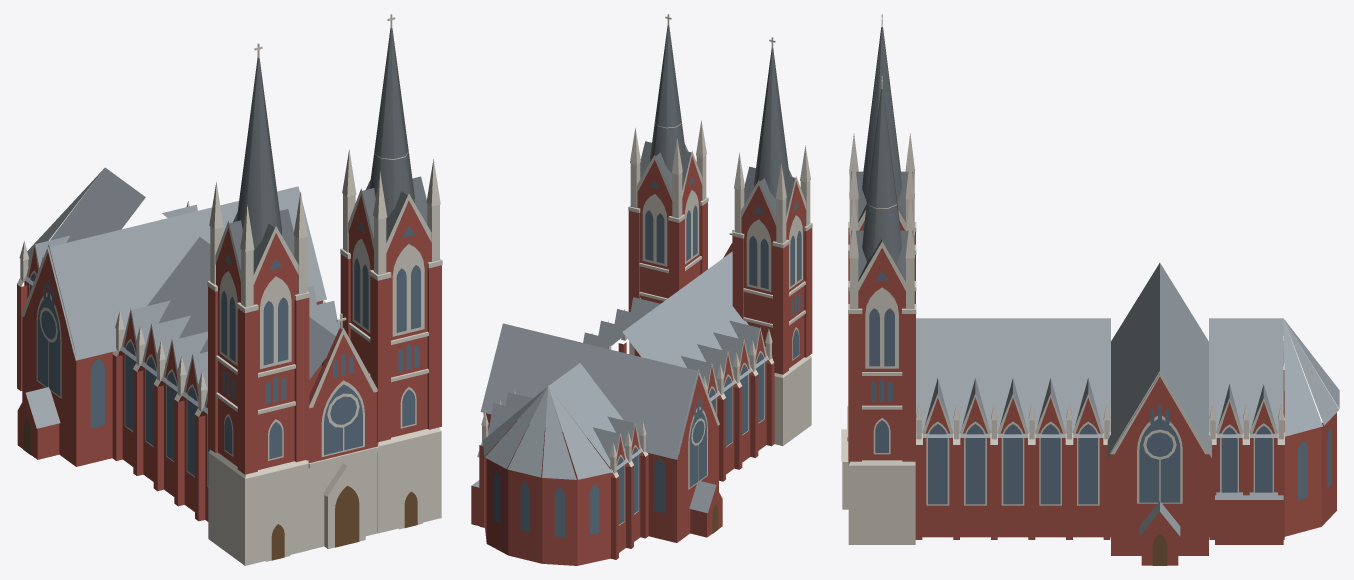
Rendered from det-sweetest-heart-of-mary.glb.
The picture shows the model from 3 angles, left to right: view 1: azimuth 30°, elevation 25°; view 2: azimuth 150°, elevation 25°; view 3: azimuth 270°, elevation 25°; orthographic projection. The views are drawn at different scales.
Visible parts, largest first — view 1: Sweetest Heart of Mary Church; view 2: Sweetest Heart of Mary Church; view 3: Sweetest Heart of Mary Church.
Boxes of the visible parts, x1,y1,x2,y2 form: Sweetest Heart of Mary Church: (17,14,442,565); Sweetest Heart of Mary Church: (471,14,812,565); Sweetest Heart of Mary Church: (841,14,1339,565).
Bounding box in the file's own units: 40.8 × 66.3 × 65.45.
